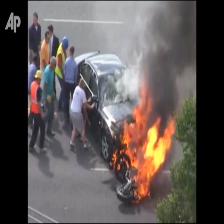fire_h: (119, 78, 176, 201)
fire_l: (115, 157, 129, 170), (112, 149, 117, 168)
